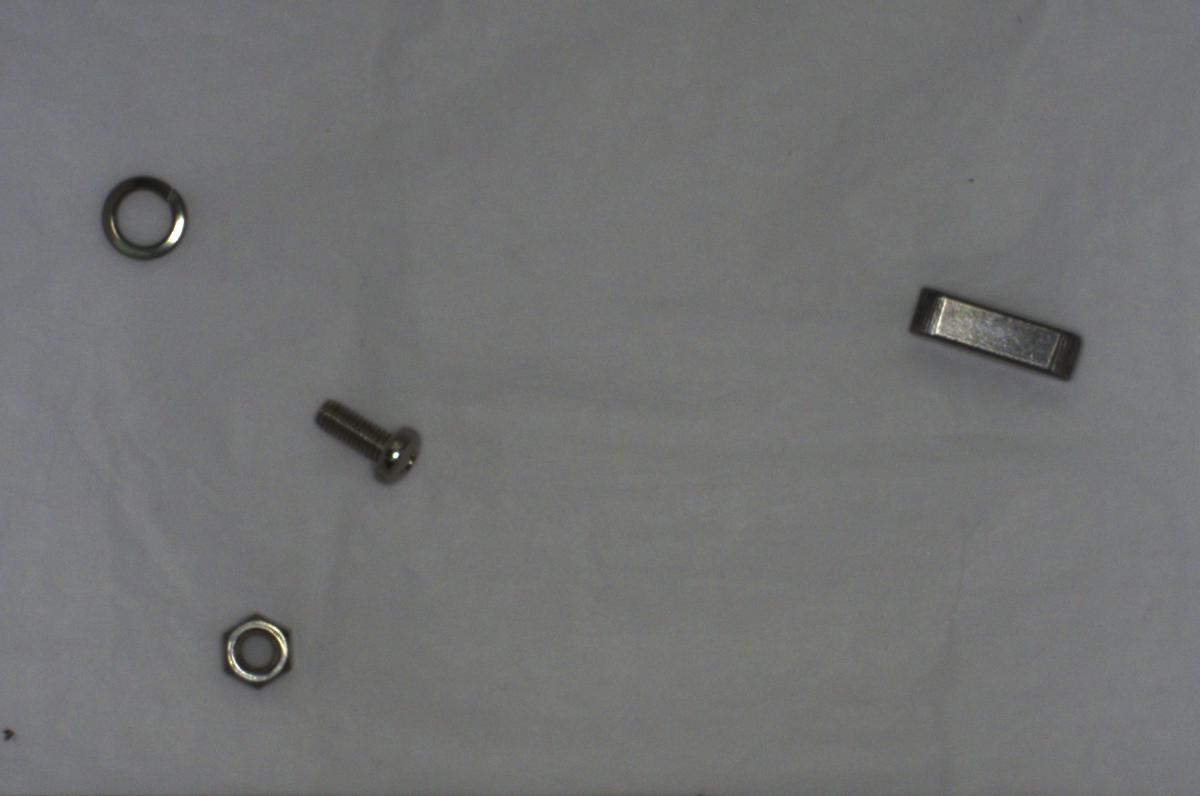Hexagon nut: (210, 602, 300, 692)
Keybar: (895, 269, 1094, 390)
Round head screw: (302, 392, 432, 483)
Spring washer: (93, 168, 199, 265)
